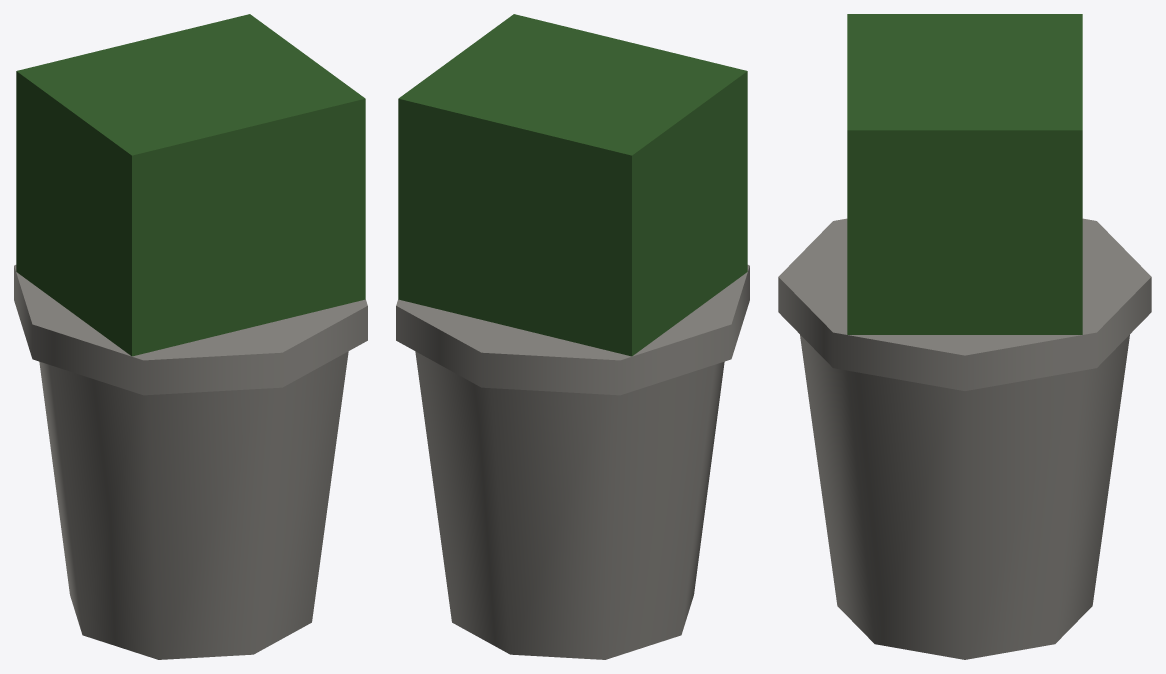
File: PRP_P1_Planter_Pot_A.obj
3 renders of one model, left to right at view 1: azimuth 30°, elevation 25°; view 2: azimuth 150°, elevation 25°; view 3: azimuth 270°, elevation 25°, orthographic.
Visible parts, largest first — view 1: plant, pot, rim; view 2: plant, pot, rim; view 3: pot, plant, rim.
Boxes of the visible parts, bbox=[...] form: plant: bbox=[16, 14, 365, 356]; pot: bbox=[39, 351, 348, 659]; rim: bbox=[14, 265, 367, 395]; plant: bbox=[398, 14, 747, 356]; pot: bbox=[415, 351, 724, 659]; rim: bbox=[396, 265, 749, 395]; pot: bbox=[800, 335, 1129, 659]; plant: bbox=[847, 14, 1082, 334]; rim: bbox=[778, 218, 1151, 390].
Size of the model in its own units: 0.38 by 0.6 by 0.38.
